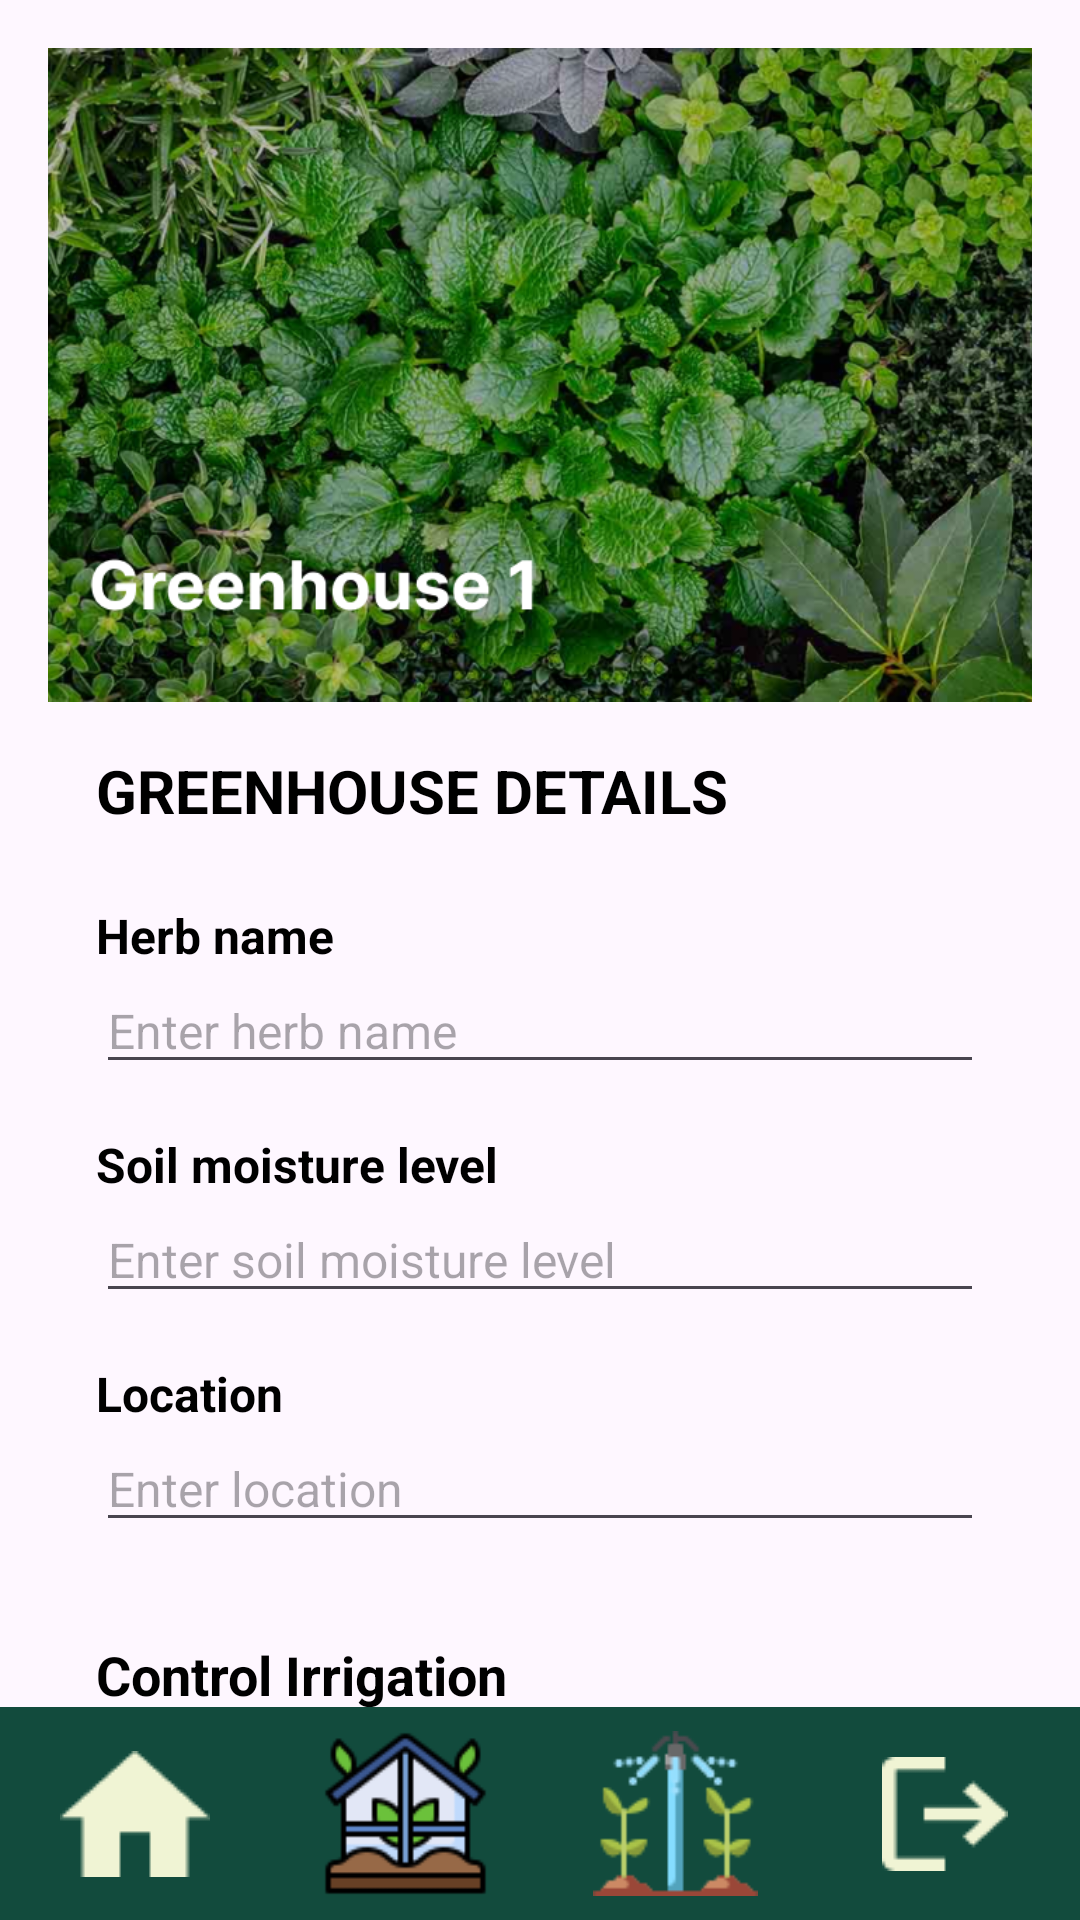

Icons on this 1080 × 1920 Android screen, each with its box as rect(x1, y1, x2, y2):
Greenhouses: rect(325, 1733, 486, 1894)
Home: rect(60, 1751, 210, 1877)
